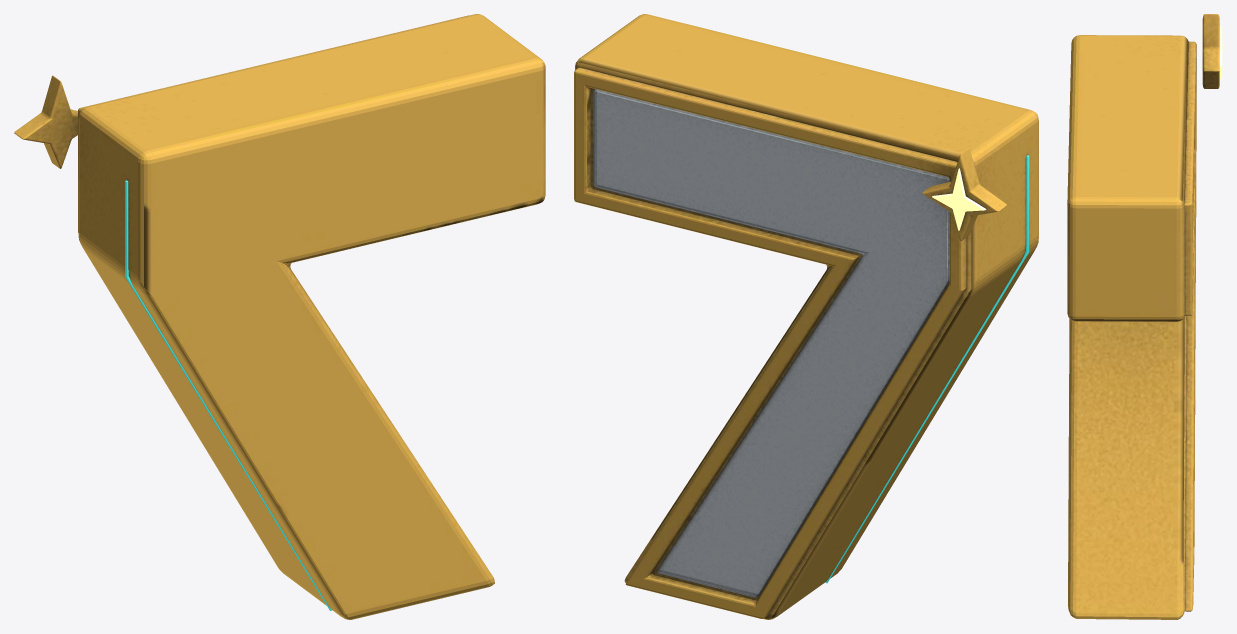
3 renders of one model, left to right at view 1: azimuth 30°, elevation 25°; view 2: azimuth 150°, elevation 25°; view 3: azimuth 270°, elevation 25°, orthographic. The views are drawn at different scales.
Visible parts, largest first — view 1: Polished_gold, anim_Polished_gold_0, glow_Subtle_teal_reflection; view 2: Polished_gold, Mirror_chrome, anim_Polished_gold_0, glow_Subtle_teal_reflection, glow_Star_light; view 3: Polished_gold, anim_Polished_gold_0.
Boxes of the visible parts, <box> form: Polished_gold: <box>78,14,545,619</box>; anim_Polished_gold_0: <box>14,75,77,168</box>; glow_Subtle_teal_reflection: <box>125,180,332,610</box>; Polished_gold: <box>574,14,1038,619</box>; Mirror_chrome: <box>593,89,949,597</box>; anim_Polished_gold_0: <box>922,148,1006,241</box>; glow_Subtle_teal_reflection: <box>825,155,1029,583</box>; glow_Star_light: <box>932,168,986,230</box>; Polished_gold: <box>1067,35,1196,619</box>; anim_Polished_gold_0: <box>1202,14,1219,88</box>.
Bounding box in the file's own units: 0.7283 × 0.8331 × 0.2564.
Materials: 4 (2 with a texture image).
